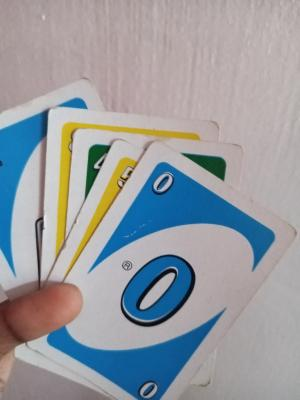blue: (119, 198, 219, 337)
num_0: (151, 164, 180, 198)
